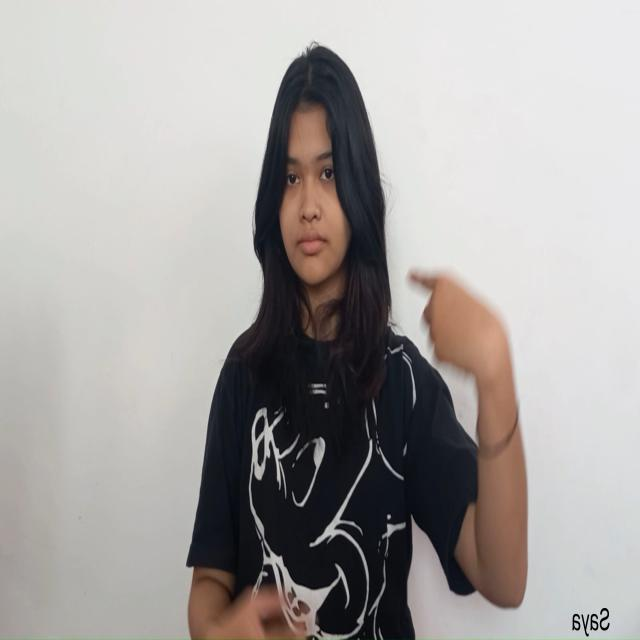Saya -BISINDO-: (404, 261, 516, 419)
